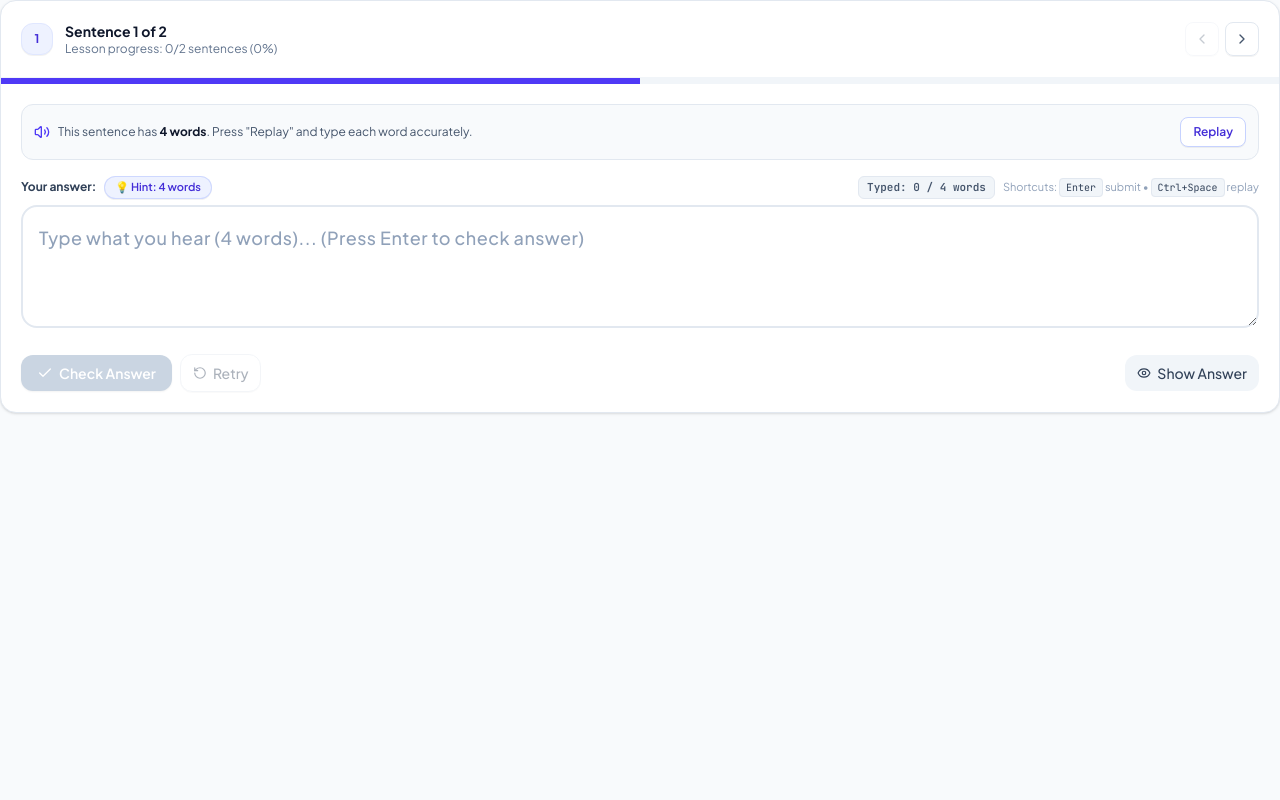
Scenario: User Requested Features Tests › 4. Vietnamese translation on reveal answer › displays official or translated Vietnamese text when user clicks "Show Answer"
Click "Show Answer"
Step 1. Click the button "Show Answer" → (1192,373), box [1125, 355, 1259, 391]
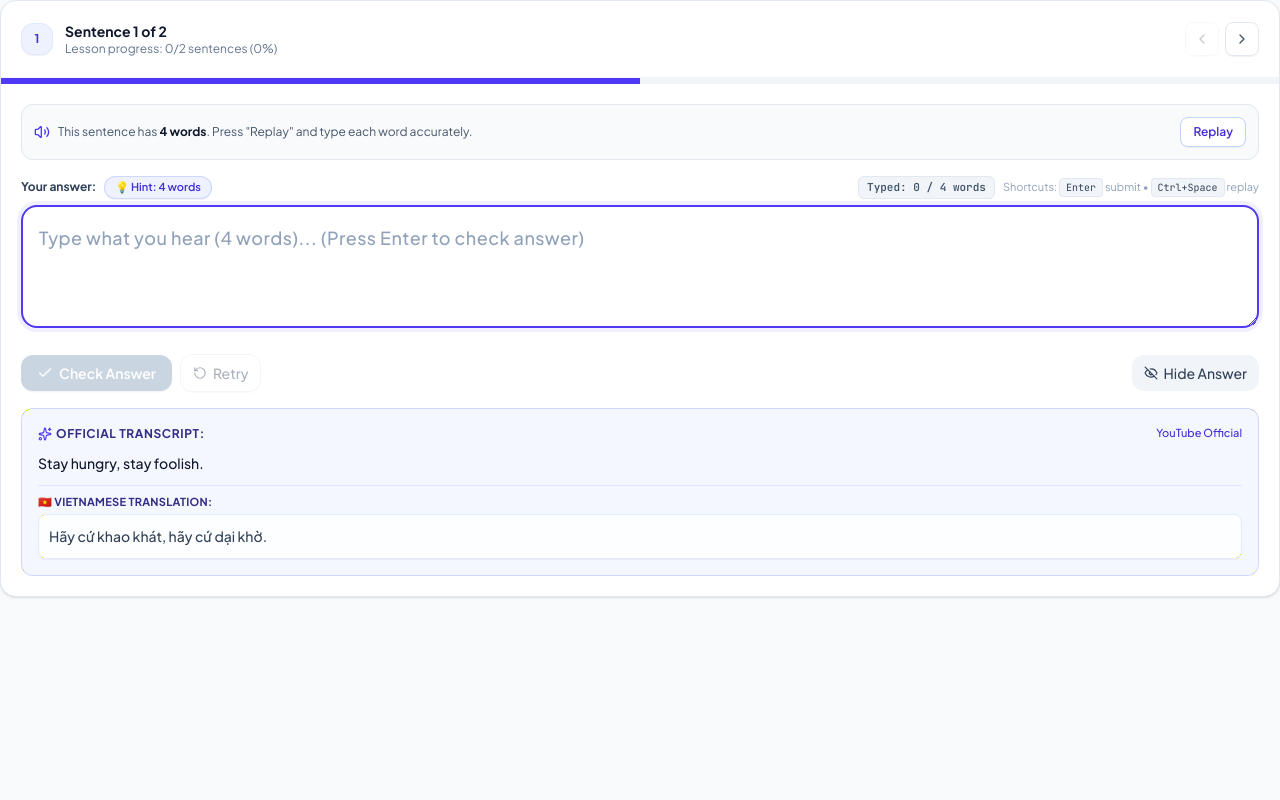
Result: the text "Stay hungry, stay foolish." is shown at [38, 454, 204, 472]
Result: the text "🇻🇳 Vietnamese Translation:" is shown at [38, 494, 212, 510]
Result: the text "Hãy cứ khao khát, hãy cứ dại khờ." is shown at [38, 514, 1242, 559]
